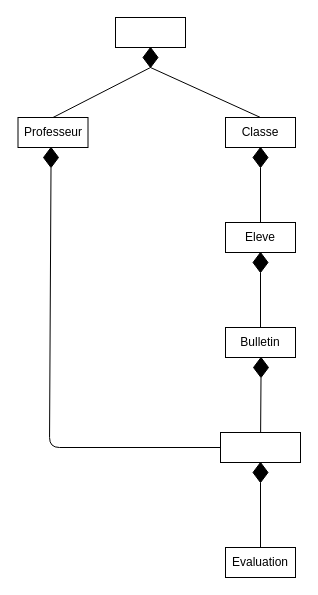
Image size: 318x595. Some labels were removed from this diagram. The shapes that lost their labels are listed below. From the top down, each one's centre as x and y in pixels, then its label:
(150,32): Ecole
(260,447): Détail Bulletin
